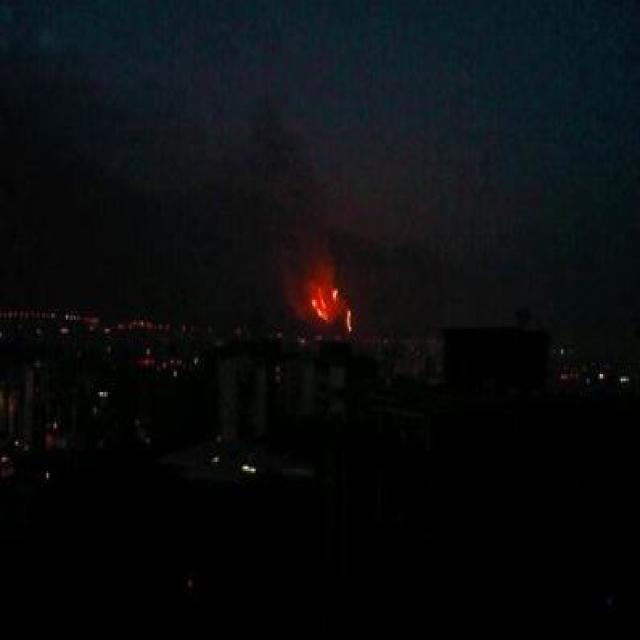Fire: (310, 277, 338, 327), (341, 306, 354, 336)
